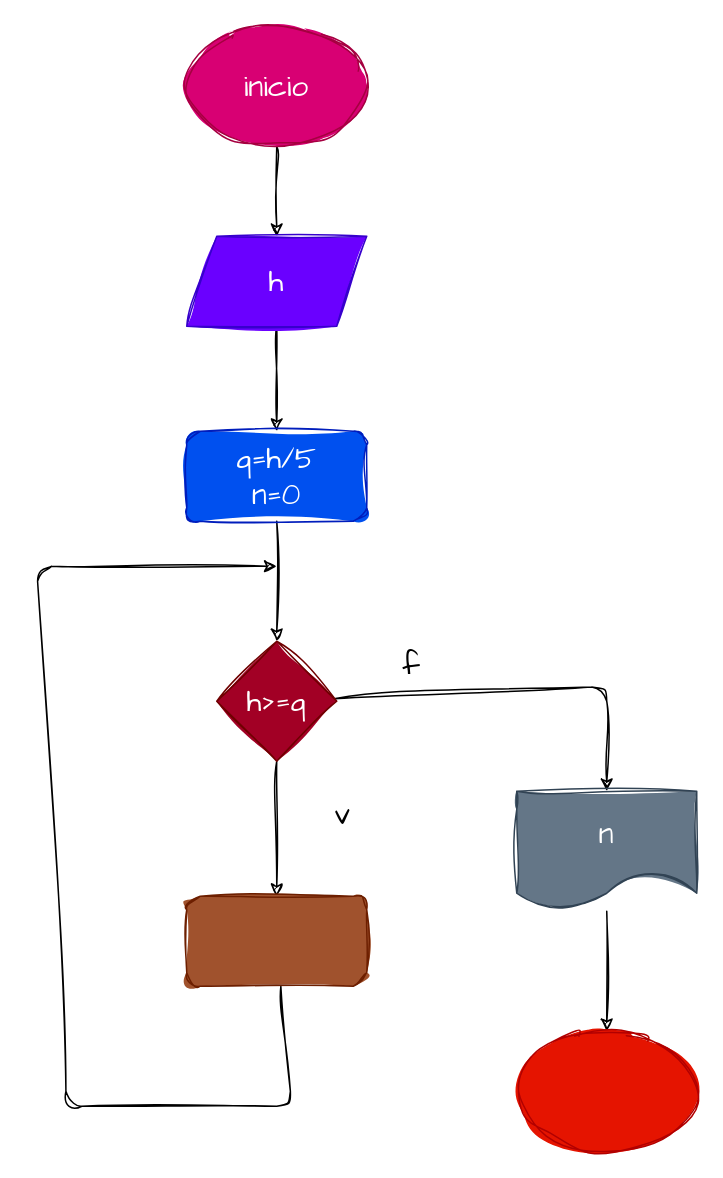
The diagram is 723 pixels wide and 1178 high, and some of its shapes have lost their labels. Each missing label, with the centre of its shape:
fin: point (606, 1090)
h=0.9h n=n+1: point (276, 940)
